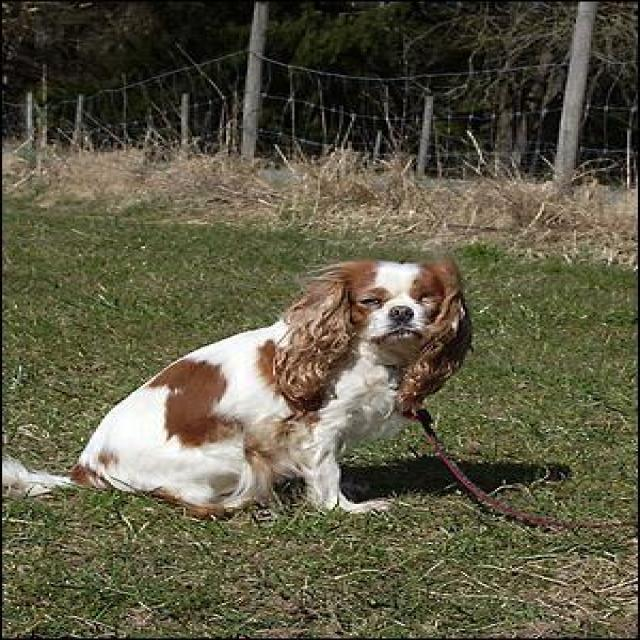blenheim_spaniel: (0, 260, 476, 518)
